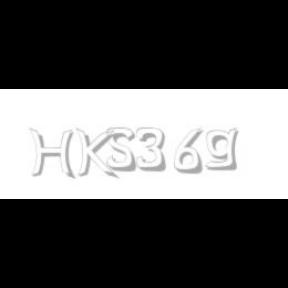3: (136, 128, 168, 172)
6: (174, 128, 202, 176)
H: (29, 128, 75, 180)
K: (75, 128, 115, 180)
S: (106, 128, 138, 172)
g: (206, 128, 242, 171)
